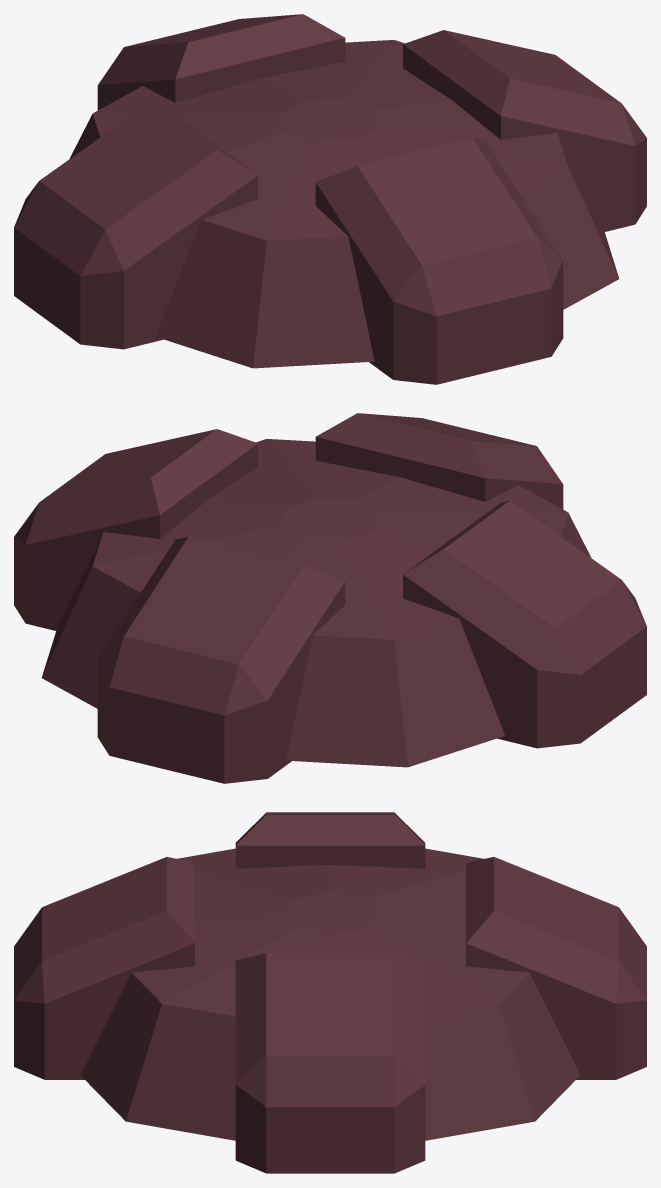
File: scifi-hologram-a.fbx
3 renders of one model, top to bottom at view 1: azimuth 30°, elevation 25°; view 2: azimuth 150°, elevation 25°; view 3: azimuth 270°, elevation 25°, orthographic. The views are drawn at different scales.
Parts seen in each view (by area): view 1: scifi-hologram-a; view 2: scifi-hologram-a; view 3: scifi-hologram-a.
Part boxes in pixels (box(x1,y1,x2,y2)): scifi-hologram-a: box(14, 14, 646, 384); scifi-hologram-a: box(14, 413, 646, 783); scifi-hologram-a: box(14, 812, 646, 1173).
Size of the model in its own units: 1.4 by 0.3803 by 1.4.
